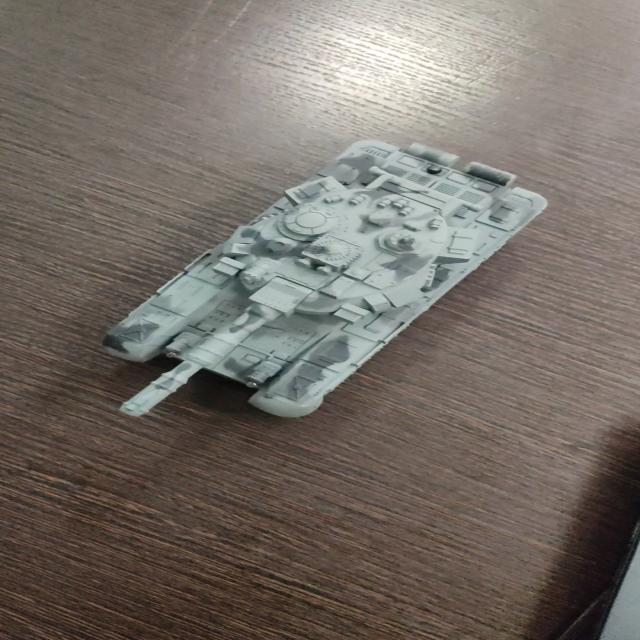tank: (90, 130, 562, 421)
